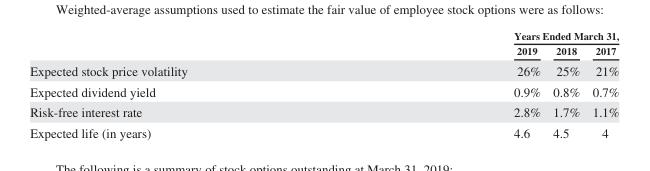table: (29, 29, 618, 139)
table column: (29, 29, 349, 139), (349, 29, 546, 139), (546, 29, 585, 139), (585, 29, 618, 139)
table column header: (29, 29, 618, 60)
table row: (29, 80, 618, 101), (29, 101, 618, 122), (29, 60, 618, 80), (29, 42, 618, 60), (29, 122, 618, 139), (29, 29, 618, 42)
table spanning cell: (349, 29, 618, 42)
